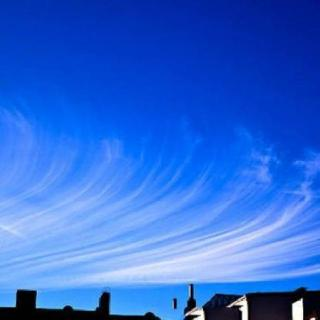Cirrostratus: (0, 0, 320, 297)
